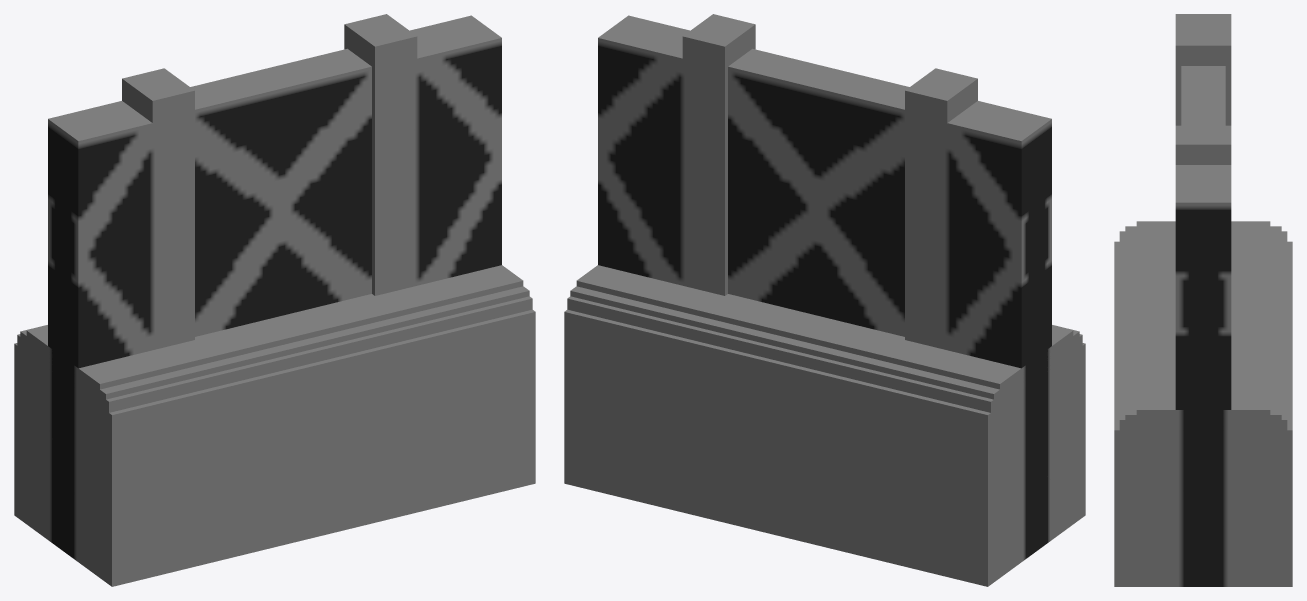
Rendered from border.obj.
The picture shows the model from 3 angles, left to right: view 1: azimuth 30°, elevation 25°; view 2: azimuth 150°, elevation 25°; view 3: azimuth 270°, elevation 25°; orthographic projection. The views are drawn at different scales.
Visible parts, largest first — view 1: border; view 2: border; view 3: border.
Part boxes in pixels (box(x1,y1,x2,y2)): border: box(14, 14, 535, 586); border: box(564, 14, 1085, 586); border: box(1114, 14, 1292, 586).
Bounding box in the file's own units: 80 × 80 × 32.
1 material, 1 textured.
